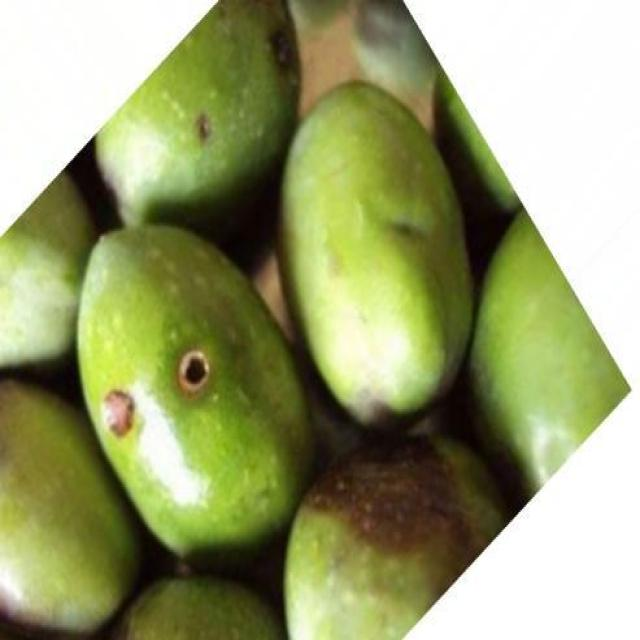Olive Fruit Fly: (78, 228, 309, 554), (97, 0, 297, 223), (283, 439, 502, 638)
